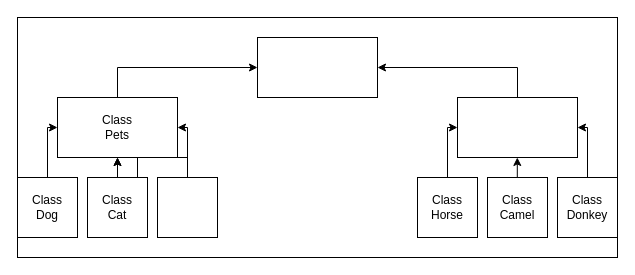
Image size: 635x275. Some labels were removed from this diagram. The centre of each missing label's shape, as x and y in pixels:
"Class Animals" belongs at (317,67).
"Class Hamster" belongs at (187,207).
"Class Packan" belongs at (517,127).
